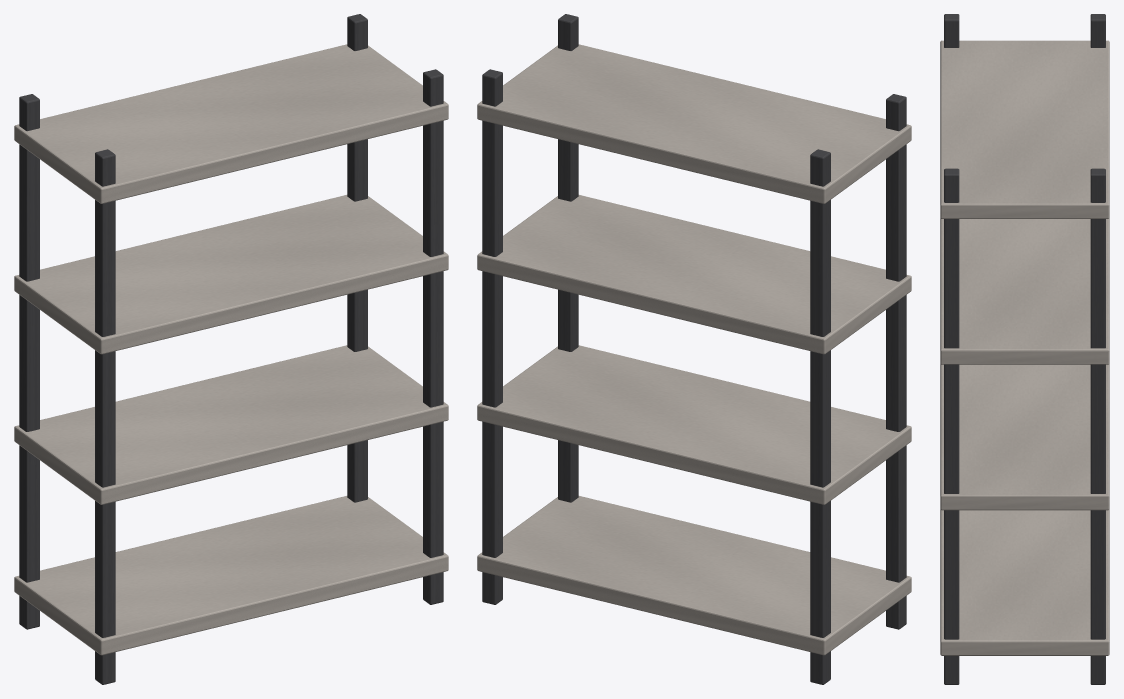
File: industrial_shelf.glb
The picture shows the model from 3 angles, left to right: view 1: azimuth 30°, elevation 25°; view 2: azimuth 150°, elevation 25°; view 3: azimuth 270°, elevation 25°; orthographic projection. The views are drawn at different scales.
Parts seen in each view (by area): view 1: MESH_MAT_Painted_Ivory.177, MESH_MAT_Dark_Metal.222; view 2: MESH_MAT_Painted_Ivory.177, MESH_MAT_Dark_Metal.222; view 3: MESH_MAT_Painted_Ivory.177, MESH_MAT_Dark_Metal.222.
Boxes of the visible parts, x1,y1,x2,y2 form: MESH_MAT_Painted_Ivory.177: (14, 44, 448, 655); MESH_MAT_Dark_Metal.222: (19, 14, 443, 684); MESH_MAT_Painted_Ivory.177: (477, 44, 911, 655); MESH_MAT_Dark_Metal.222: (482, 14, 906, 684); MESH_MAT_Painted_Ivory.177: (940, 40, 1109, 655); MESH_MAT_Dark_Metal.222: (944, 14, 1105, 684).
Size of the model in its own units: 1.38 by 2 by 0.6.
Materials: 2 (2 with a texture image).
